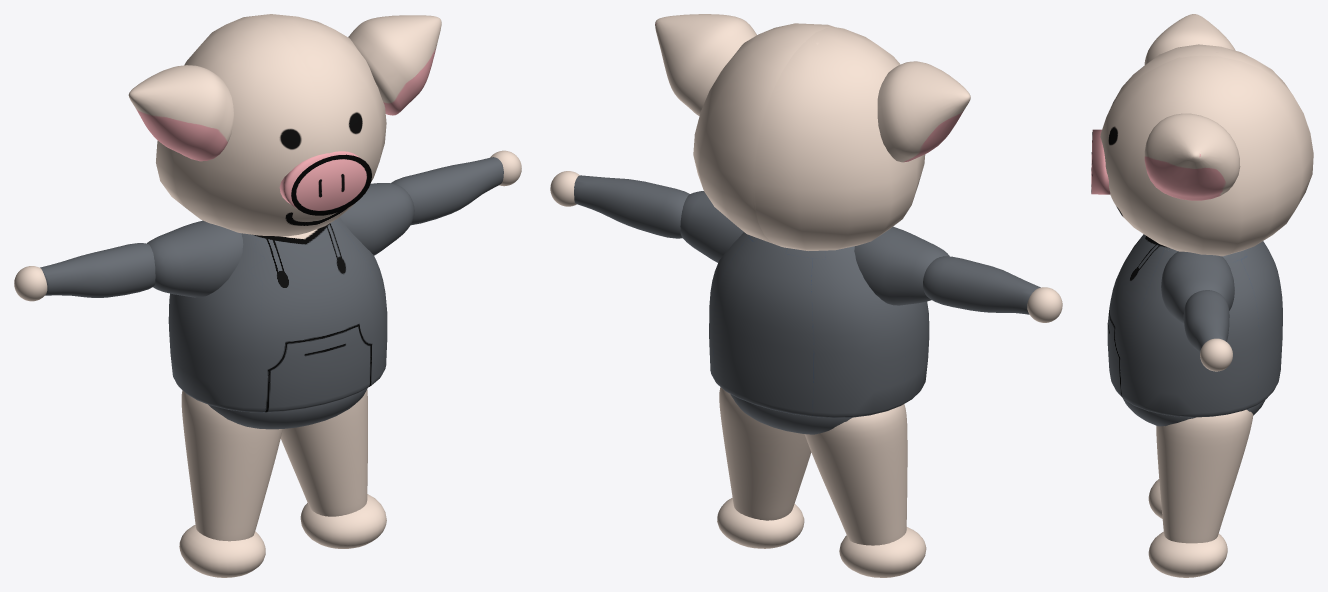
Rendered from pigModel.fbx.
3 renders of one model, left to right at view 1: azimuth 30°, elevation 25°; view 2: azimuth 150°, elevation 25°; view 3: azimuth 270°, elevation 25°, orthographic. The views are drawn at different scales.
Parts seen in each view (by area): view 1: body, headball, Cube.005, Cube, Cube.003, Cube.004, Cube.006, Cylinder, Cube.001, Sphere.001; view 2: headball, body, Cube.005, Cube, Cube.004, Cube.003, Cube.006, Sphere.001, Cube.001; view 3: headball, body, Cube.005, Cube, Cube.003, Cube.006, Cube.004, Cylinder, Sphere.001, Cube.001.
Boxes of the visible parts, <box> form: body: <box>168,217,387,412</box>; headball: <box>156,14,386,236</box>; Cube.005: <box>181,389,367,541</box>; Cube: <box>128,15,441,161</box>; Cube.003: <box>147,183,414,297</box>; Cube.004: <box>40,157,503,297</box>; Cube.006: <box>179,494,386,577</box>; Cylinder: <box>279,151,371,215</box>; Cube.001: <box>208,388,367,429</box>; Sphere.001: <box>14,150,521,301</box>; headball: <box>693,23,925,250</box>; body: <box>709,232,929,417</box>; Cube.005: <box>719,387,907,545</box>; Cube: <box>655,14,970,162</box>; Cube.004: <box>574,175,1040,314</box>; Cube.003: <box>680,191,949,305</box>; Cube.006: <box>717,497,926,577</box>; Sphere.001: <box>550,171,1062,322</box>; Cube.001: <box>730,394,851,434</box>; headball: <box>1100,44,1313,256</box>; body: <box>1107,234,1282,417</box>; Cube.005: <box>1156,409,1253,543</box>; Cube: <box>1144,14,1240,200</box>; Cube.003: <box>1161,251,1234,323</box>; Cube.006: <box>1148,479,1227,577</box>; Cube.004: <box>1183,290,1229,352</box>; Cylinder: <box>1091,129,1110,194</box>; Sphere.001: <box>1200,338,1232,371</box>; Cube.001: <box>1123,398,1265,426</box>.
Bounding box in the file's own units: 495 × 493 × 204.
11 materials, 4 textured.
